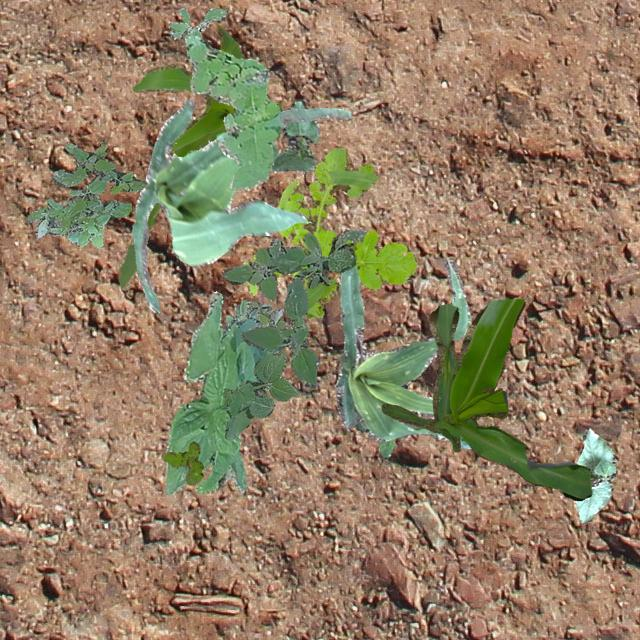crop: (130, 98, 350, 312), (381, 298, 591, 500), (118, 24, 242, 290), (334, 258, 470, 448), (165, 290, 272, 494), (574, 427, 616, 522), (270, 100, 318, 172)
weed: (242, 146, 416, 316), (220, 228, 366, 386), (184, 32, 282, 188), (26, 140, 144, 248), (220, 349, 298, 438), (168, 6, 226, 38), (160, 441, 202, 484), (225, 300, 288, 328), (352, 421, 393, 456)
